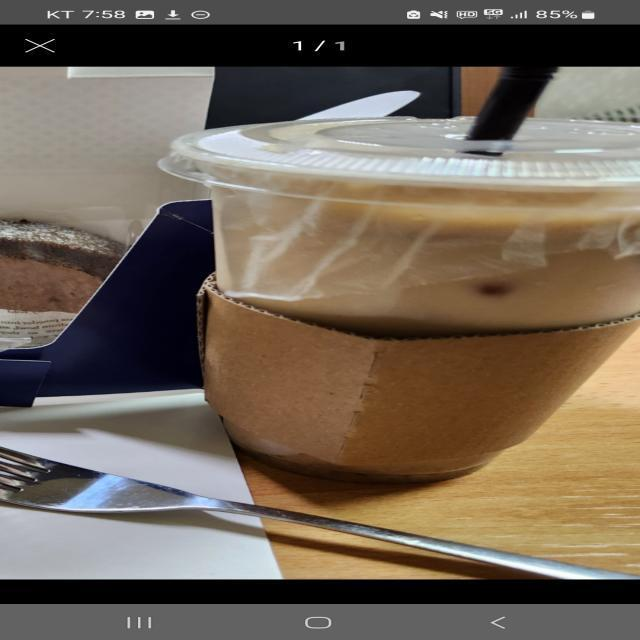cup: (148, 117, 640, 503)
